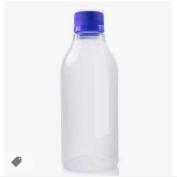plastic_bottle: (58, 8, 122, 172)
